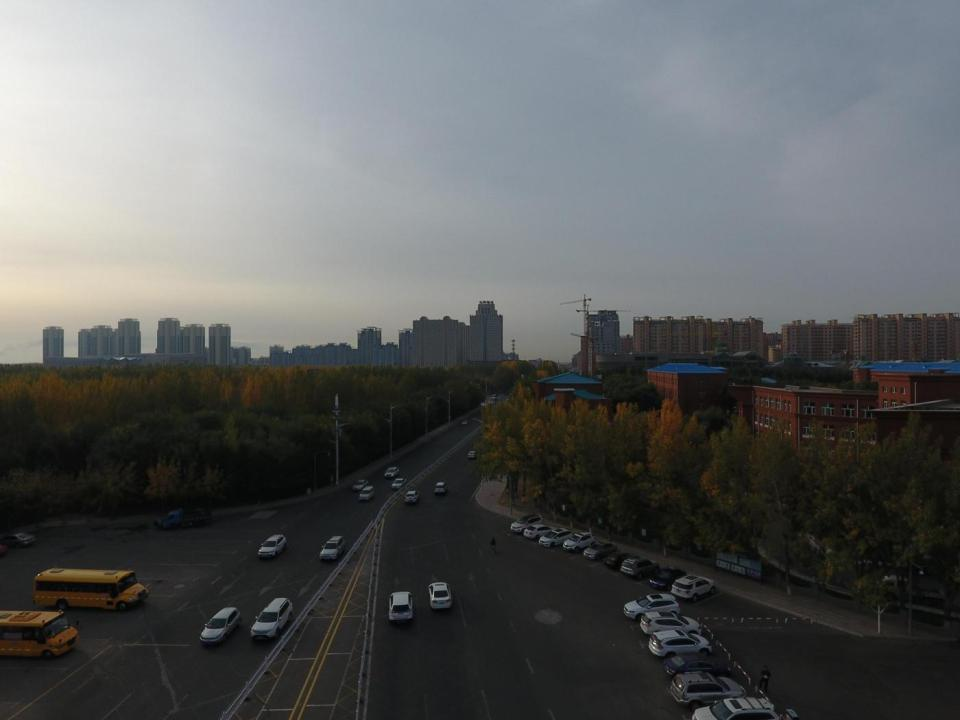bus: (31, 566, 149, 611), (0, 608, 80, 660)
car: (670, 672, 748, 711), (692, 696, 781, 720), (250, 597, 294, 643), (663, 651, 731, 679), (648, 629, 711, 658), (640, 611, 702, 639), (624, 593, 682, 622), (670, 573, 717, 602), (387, 590, 416, 626), (620, 555, 661, 579), (256, 534, 288, 561), (649, 566, 686, 589), (427, 580, 453, 612), (510, 513, 545, 535), (538, 527, 574, 548), (583, 540, 617, 561), (562, 532, 596, 553), (319, 535, 345, 561), (523, 524, 558, 540), (603, 552, 637, 568), (0, 532, 36, 546), (404, 490, 420, 504), (352, 479, 369, 491), (434, 481, 448, 495), (384, 466, 400, 478), (392, 478, 406, 490), (467, 450, 477, 459), (462, 419, 468, 425), (491, 396, 498, 401), (491, 394, 499, 397), (488, 400, 493, 404)
truck: (156, 508, 212, 531)
van: (199, 606, 242, 646), (359, 485, 375, 502)
